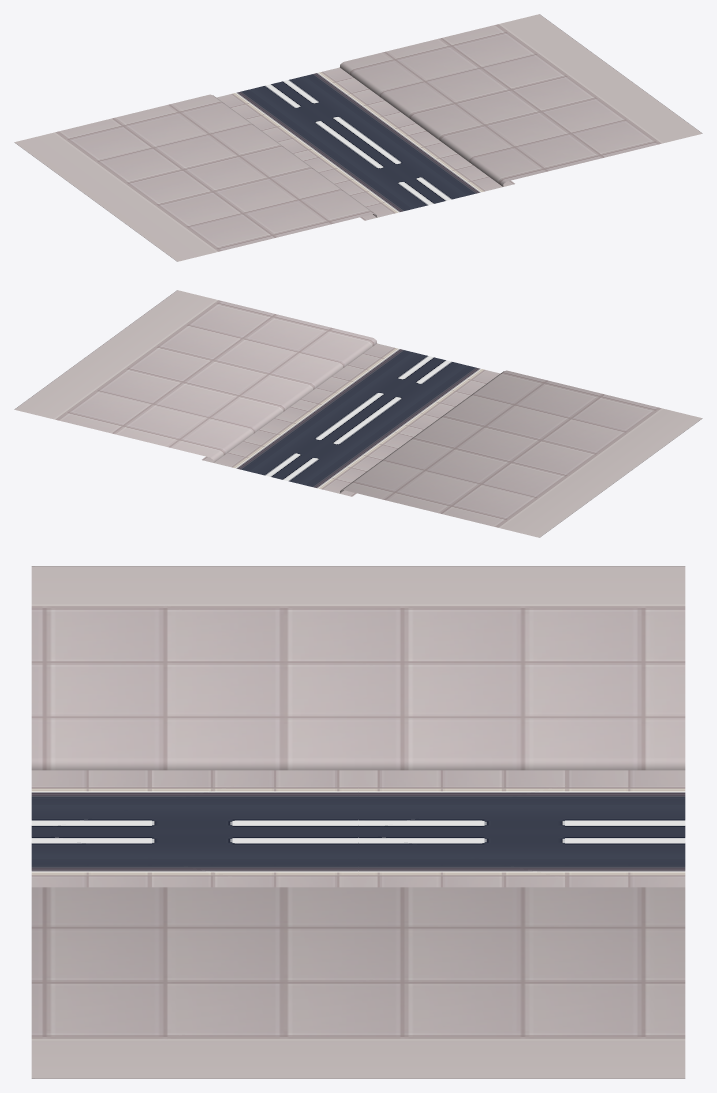
Rendered from dimian.FBX.
3 views of the same model, one above another, from view 1: azimuth 30°, elevation 25°; view 2: azimuth 150°, elevation 25°; view 3: azimuth 270°, elevation 25° (orthographic). The views are drawn at different scales.
Parts seen in each view (by area): view 1: Object01; view 2: Object01; view 3: Object01.
Part boxes in pixels (left/top/right/bottom): Object01: left=14, top=14, right=702, bottom=261; Object01: left=14, top=290, right=702, bottom=537; Object01: left=31, top=566, right=685, bottom=1078.
Size of the model in its own units: 3272 by 28.17 by 1762.
Materials: 1 (1 with a texture image).
